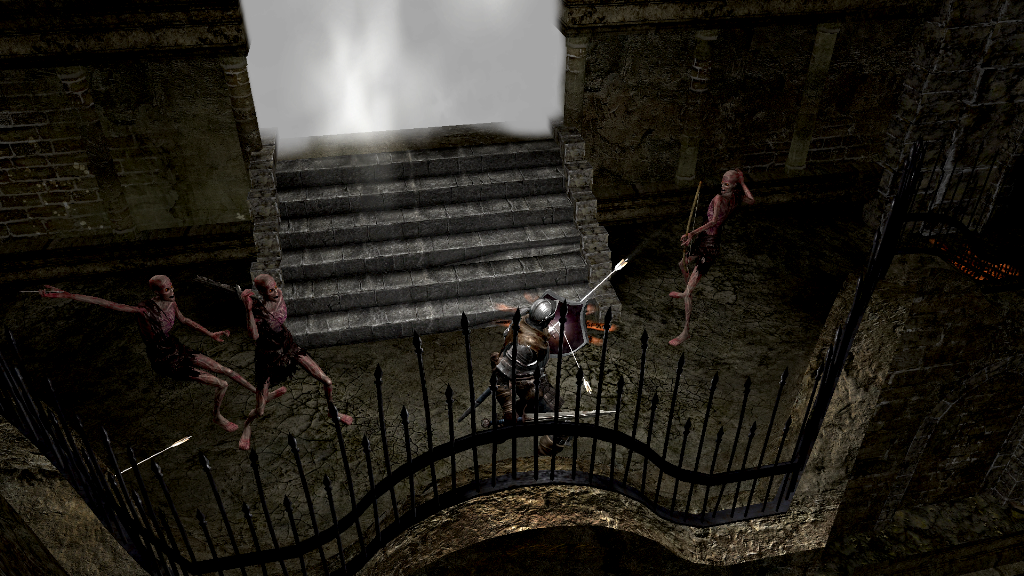hollow: (39, 274, 243, 430), (240, 275, 354, 450), (667, 167, 756, 347)
player: (494, 289, 589, 456)
